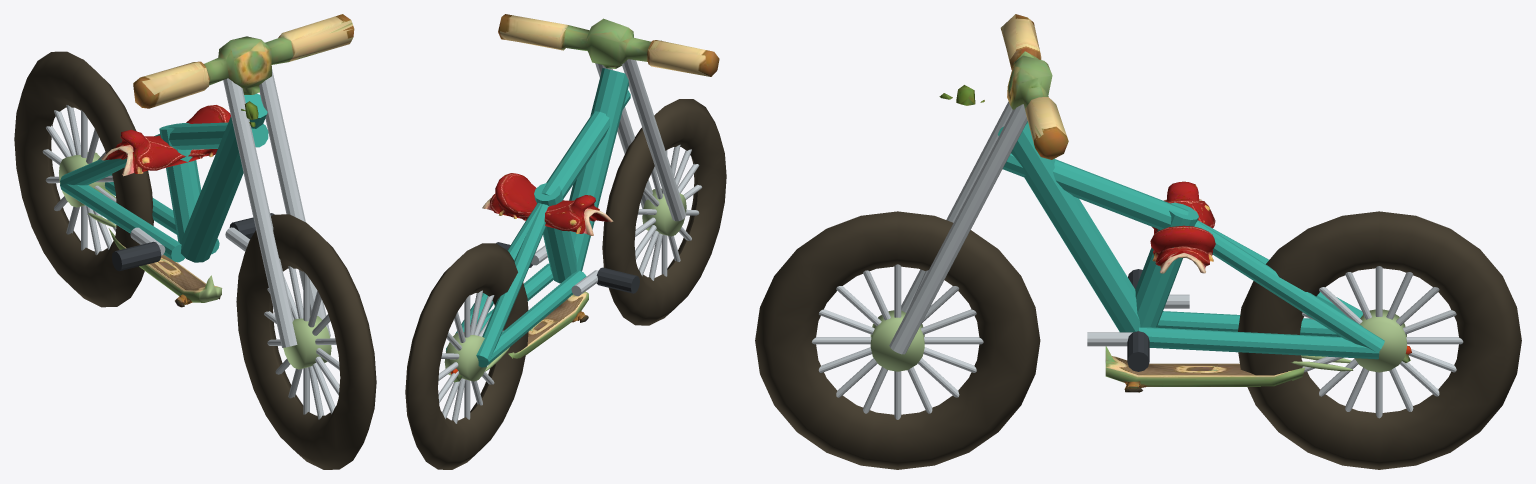
3 views of the same model, side by side, from view 1: azimuth 30°, elevation 25°; view 2: azimuth 150°, elevation 25°; view 3: azimuth 270°, elevation 25° (orthographic). The views are drawn at different scales.
Visible parts, largest first — view 1: Torus, Torus.001, tripo_mesh_caba9cc8-8769-4b67-b362-f041629eba61.004, 앞 포크, 다운 튜브, saddle-red, 앞 포크.001, body, 체인 스테이, 시트 튜브, 탑 튜브, 시트 스테이 (+10 smaller); view 2: Torus.001, Torus, tripo_mesh_caba9cc8-8769-4b67-b362-f041629eba61.004, 다운 튜브, saddle-red, 앞 포크, 시트 스테이, 탑 튜브, 체인 스테이, body, 시트 튜브, pedal-Right (+12 smaller); view 3: Torus, Torus.001, 다운 튜브, tripo_mesh_caba9cc8-8769-4b67-b362-f041629eba61.004, 앞 포크.001, 체인 스테이.001, body, 시트 스테이.001, 탑 튜브, saddle-red, 시트 튜브, 체인 스테이 (+8 smaller).
Boxes of the visible parts, left/top/right/bottom form: Torus: left=236, top=214, right=376, bottom=469; Torus.001: left=14, top=51, right=153, bottom=307; tripo_mesh_caba9cc8-8769-4b67-b362-f041629eba61.004: left=133, top=14, right=354, bottom=126; 앞 포크: left=223, top=78, right=297, bottom=347; 다운 튜브: left=181, top=93, right=267, bottom=262; saddle-red: left=101, top=105, right=230, bottom=176; 앞 포크.001: left=259, top=69, right=330, bottom=336; body: left=88, top=186, right=222, bottom=307; 체인 스테이: left=60, top=183, right=184, bottom=262; 시트 튜브: left=159, top=123, right=201, bottom=243; 탑 튜브: left=168, top=122, right=268, bottom=149; 시트 스테이: left=60, top=134, right=160, bottom=185; Torus.001: left=405, top=243, right=528, bottom=469; Torus: left=602, top=99, right=726, bottom=325; tripo_mesh_caba9cc8-8769-4b67-b362-f041629eba61.004: left=498, top=14, right=719, bottom=76; 다운 튜브: left=569, top=68, right=628, bottom=271; saddle-red: left=482, top=173, right=613, bottom=235; 앞 포크: left=622, top=59, right=685, bottom=221; 시트 스테이: left=476, top=204, right=548, bottom=360; 탑 튜브: left=541, top=90, right=630, bottom=198; 체인 스테이: left=478, top=270, right=586, bottom=367; body: left=450, top=291, right=588, bottom=382; 시트 튜브: left=534, top=183, right=576, bottom=283; pedal-Right: left=596, top=267, right=639, bottom=293; Torus: left=755, top=211, right=1040, bottom=469; Torus.001: left=1238, top=211, right=1521, bottom=469; 다운 튜브: left=998, top=121, right=1140, bottom=332; tripo_mesh_caba9cc8-8769-4b67-b362-f041629eba61.004: left=939, top=14, right=1068, bottom=159; 앞 포크.001: left=889, top=104, right=1027, bottom=354; 체인 스테이.001: left=1138, top=327, right=1379, bottom=359; body: left=1105, top=345, right=1411, bottom=392; 시트 스테이.001: left=1194, top=221, right=1384, bottom=352; 탑 튜브: left=1003, top=153, right=1188, bottom=229; saddle-red: left=1150, top=181, right=1215, bottom=273; 시트 튜브: left=1135, top=202, right=1198, bottom=327; 체인 스테이: left=1157, top=311, right=1340, bottom=336.
Bounding box in the file's own units: 0.638 × 1.01 × 1.72.
8 materials, 2 textured.
